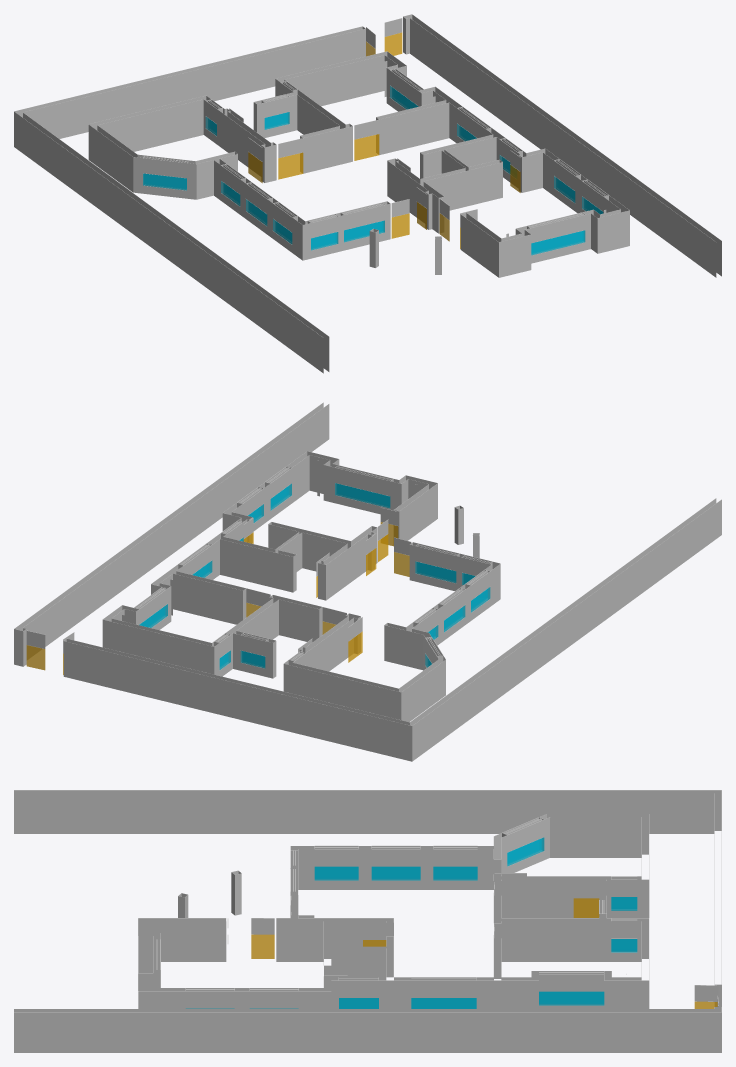
File: 910ef091-a3d0-4333-b0f1-64c15bff95bf_no_roof.glb
3 renders of one model, top to bottom at view 1: azimuth 30°, elevation 25°; view 2: azimuth 150°, elevation 25°; view 3: azimuth 270°, elevation 25°, orthographic. The views are drawn at different scales.
Visible parts, largest first — view 1: walls, windows, doors; view 2: walls, windows, doors; view 3: walls, windows, doors.
Boxes of the visible parts, x1,y1,x2,y2 form: walls: (14, 14, 721, 373); windows: (143, 86, 603, 255); doors: (248, 32, 520, 248); walls: (14, 402, 721, 761); windows: (139, 483, 490, 669); doors: (26, 522, 409, 674); walls: (14, 790, 721, 1052); windows: (186, 837, 637, 1008); doors: (251, 898, 717, 1008).
Bounding box in the file's own units: 40.91 × 3.5 × 55.11.
